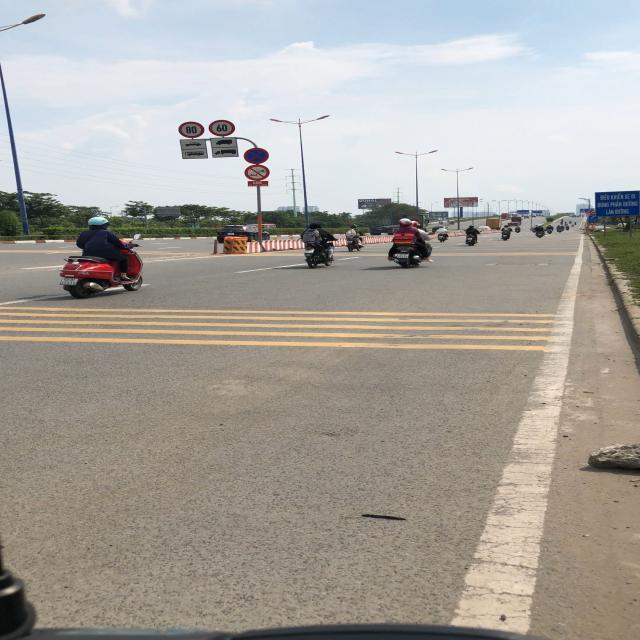Bien bao cam dung xe va do xe: (239, 146, 277, 166)
Bien bao toc do toi da cho phep: (176, 120, 205, 139), (207, 120, 237, 137)
